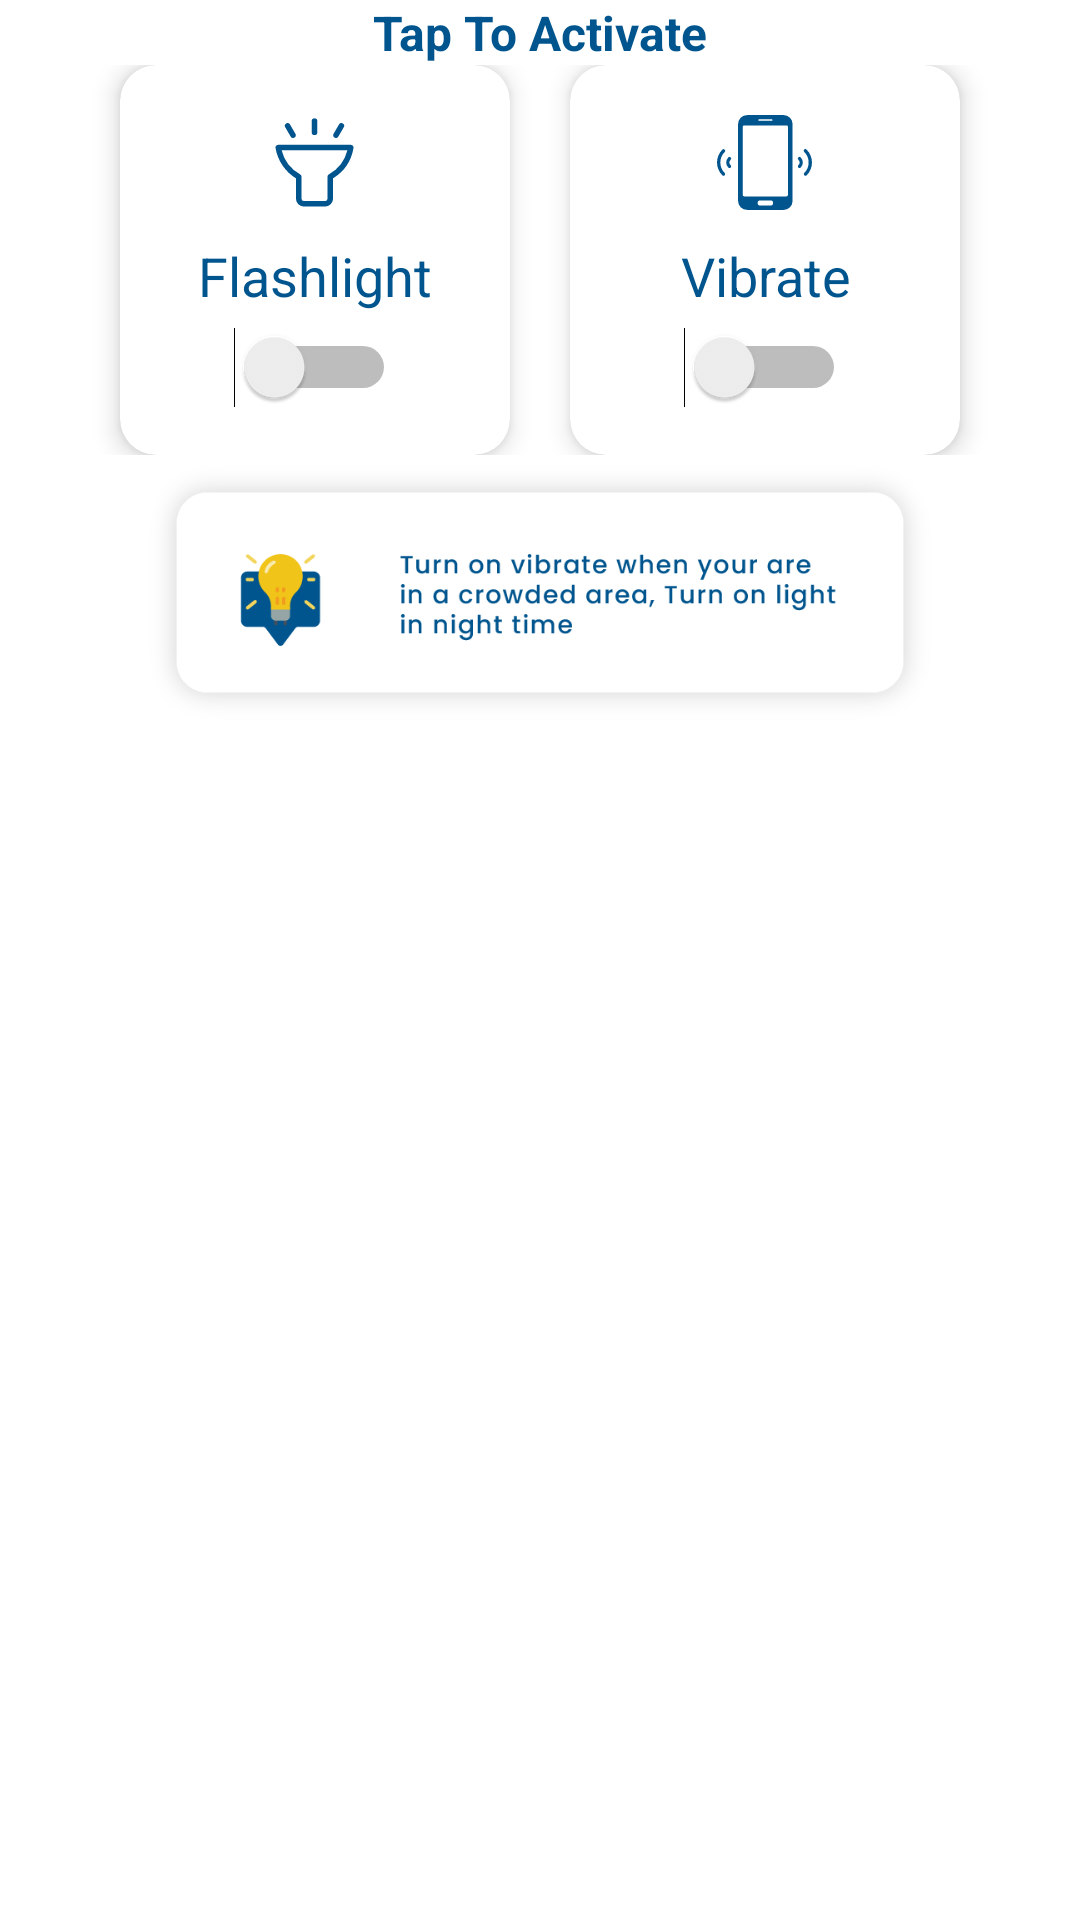

Icon bounding boxes for this 1080px x 1920px phone screenshot, format detection(x1, y1, x2, y2):
viberate off: detection(717, 115, 812, 210)
